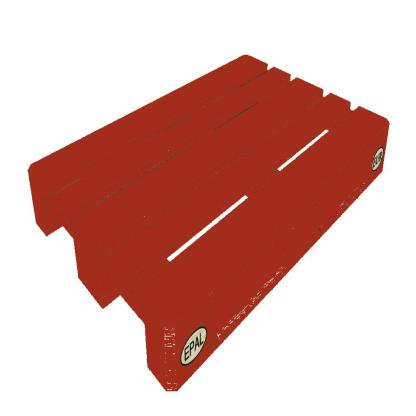BoxFace: (26, 46, 396, 399)
